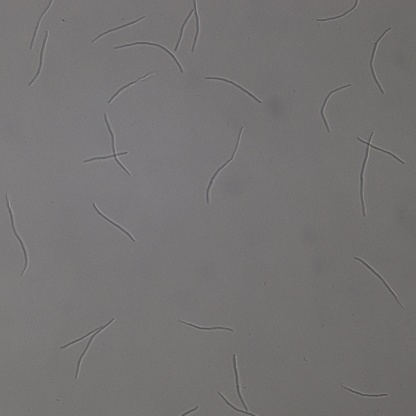Sensitive: (357, 132, 405, 217), (61, 317, 113, 381), (83, 111, 132, 176), (205, 126, 244, 202), (354, 256, 403, 308), (218, 354, 255, 416), (4, 193, 29, 276), (113, 42, 182, 71), (93, 203, 135, 243), (205, 73, 262, 102), (368, 27, 392, 94), (320, 83, 350, 133), (92, 15, 145, 42), (173, 1, 200, 52), (30, 30, 51, 85), (109, 74, 152, 100), (30, 1, 52, 48), (317, 1, 358, 24), (180, 320, 233, 337), (341, 384, 390, 401)
